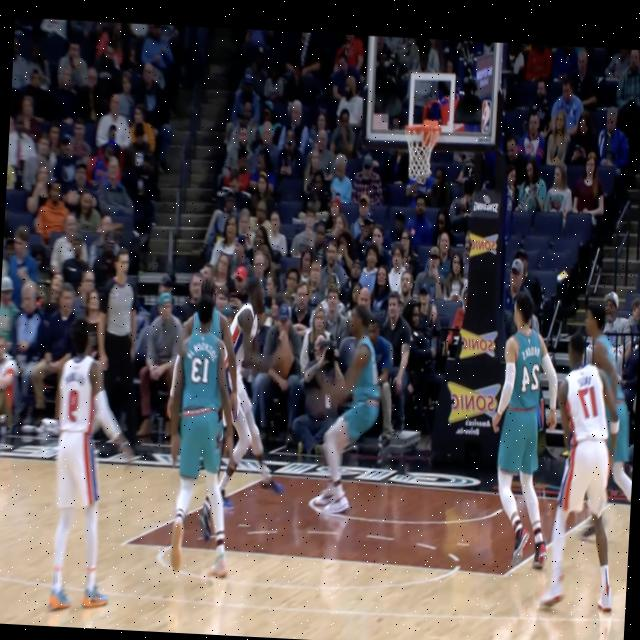no foul: (164, 280, 238, 594), (215, 270, 278, 511)
